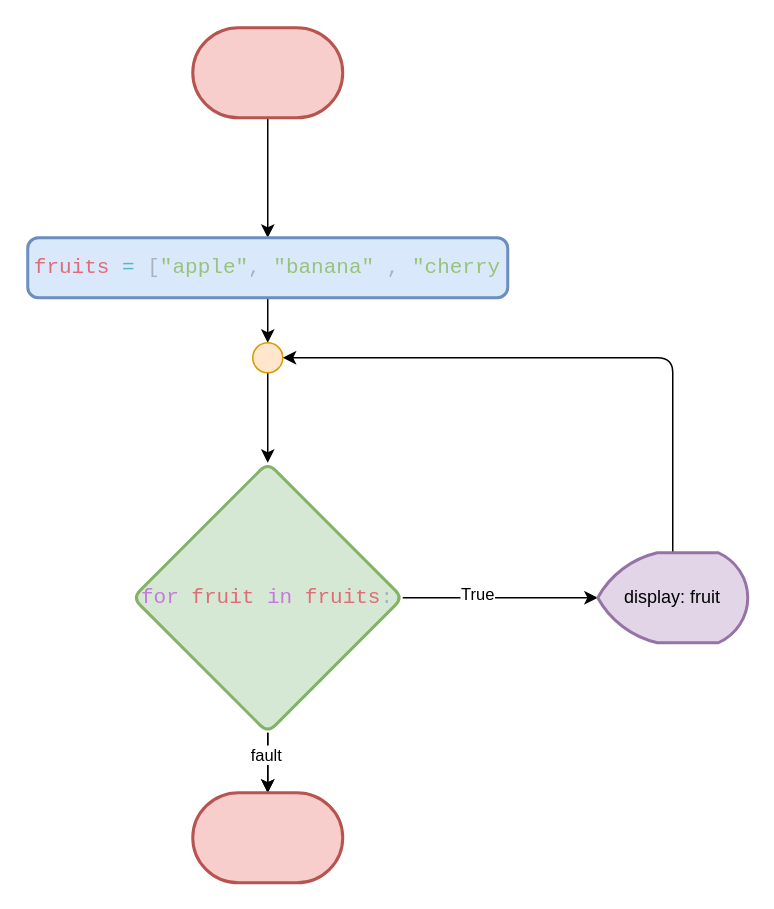
Image size: 774x909. Some labels were removed from this diagram. The centre of each missing label's shape, as x and y in pixels:
"start" belongs at point 267,72.
"stop" belongs at point 267,837.
